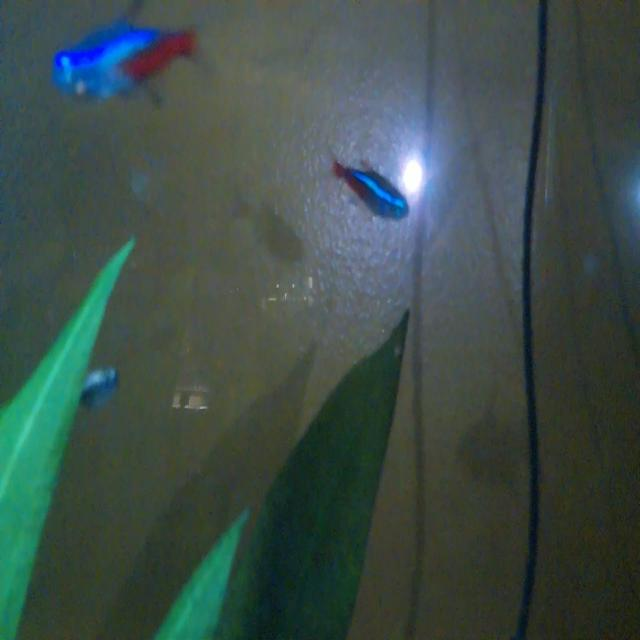fish: (32, 12, 208, 121), (327, 150, 416, 233)
